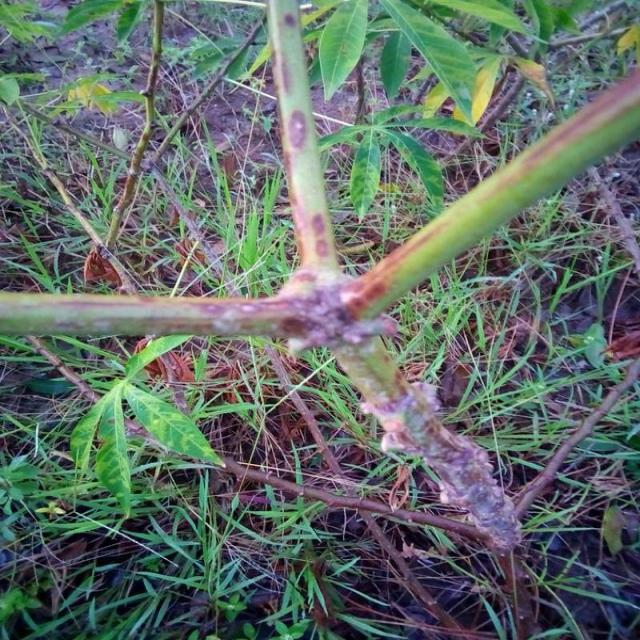cassava leaf: (126, 381, 227, 469), (319, 0, 370, 102)
